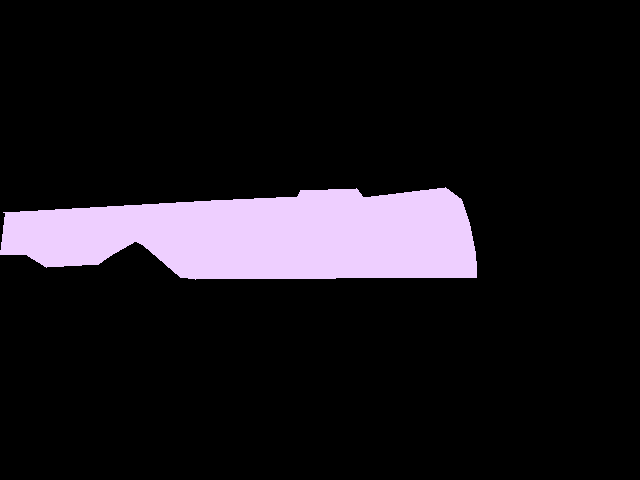Train: (0, 187, 476, 279)
